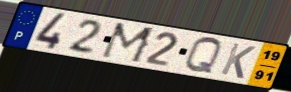2: (65, 18, 104, 56), (143, 32, 180, 68)
4: (32, 11, 67, 52)
K: (218, 41, 258, 81)
M: (98, 21, 158, 65)
Q: (183, 36, 224, 76)
